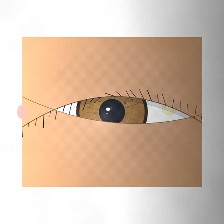pinguecula_lesion: (155, 98, 184, 121)
